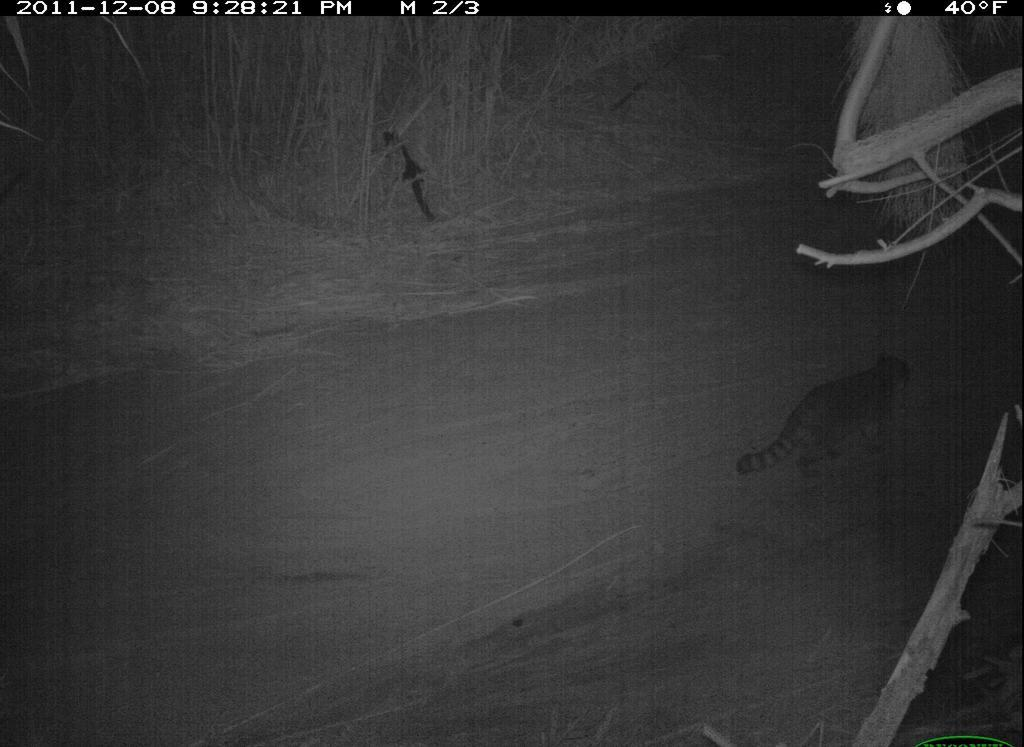raccoon: (734, 344, 925, 500)
